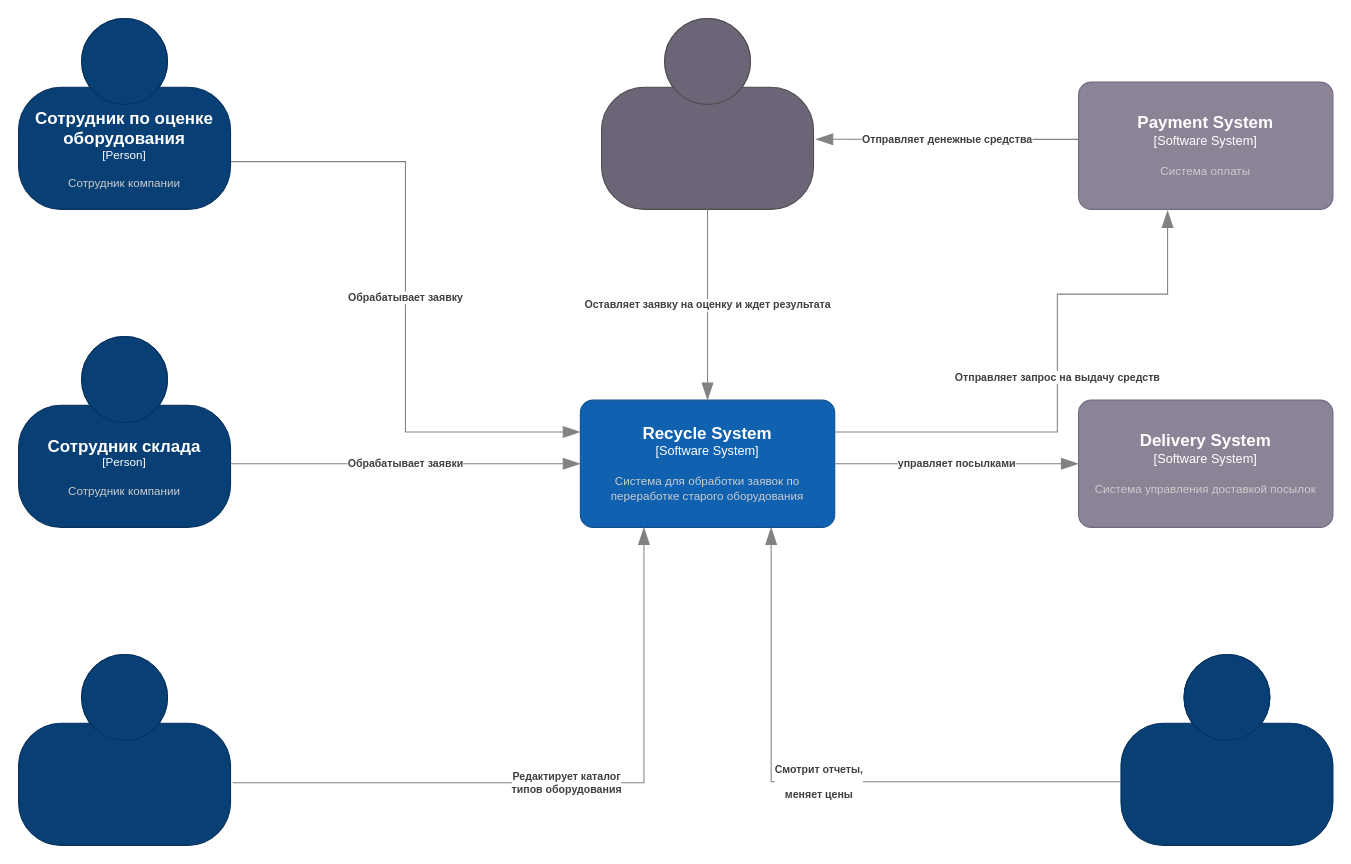
The diagram is 1351 pixels wide and 864 high, and some of its shapes have lost their labels. Each missing label, with the centre of its shape:
Бизнес-менеджер [Person] сотрудник компании: (124,749)
Клиент [Person] Клиент системы, который сдает оборудования: (707,113)
Финансовый сотрудник [Person] Сотрудник компании: (1226,749)
